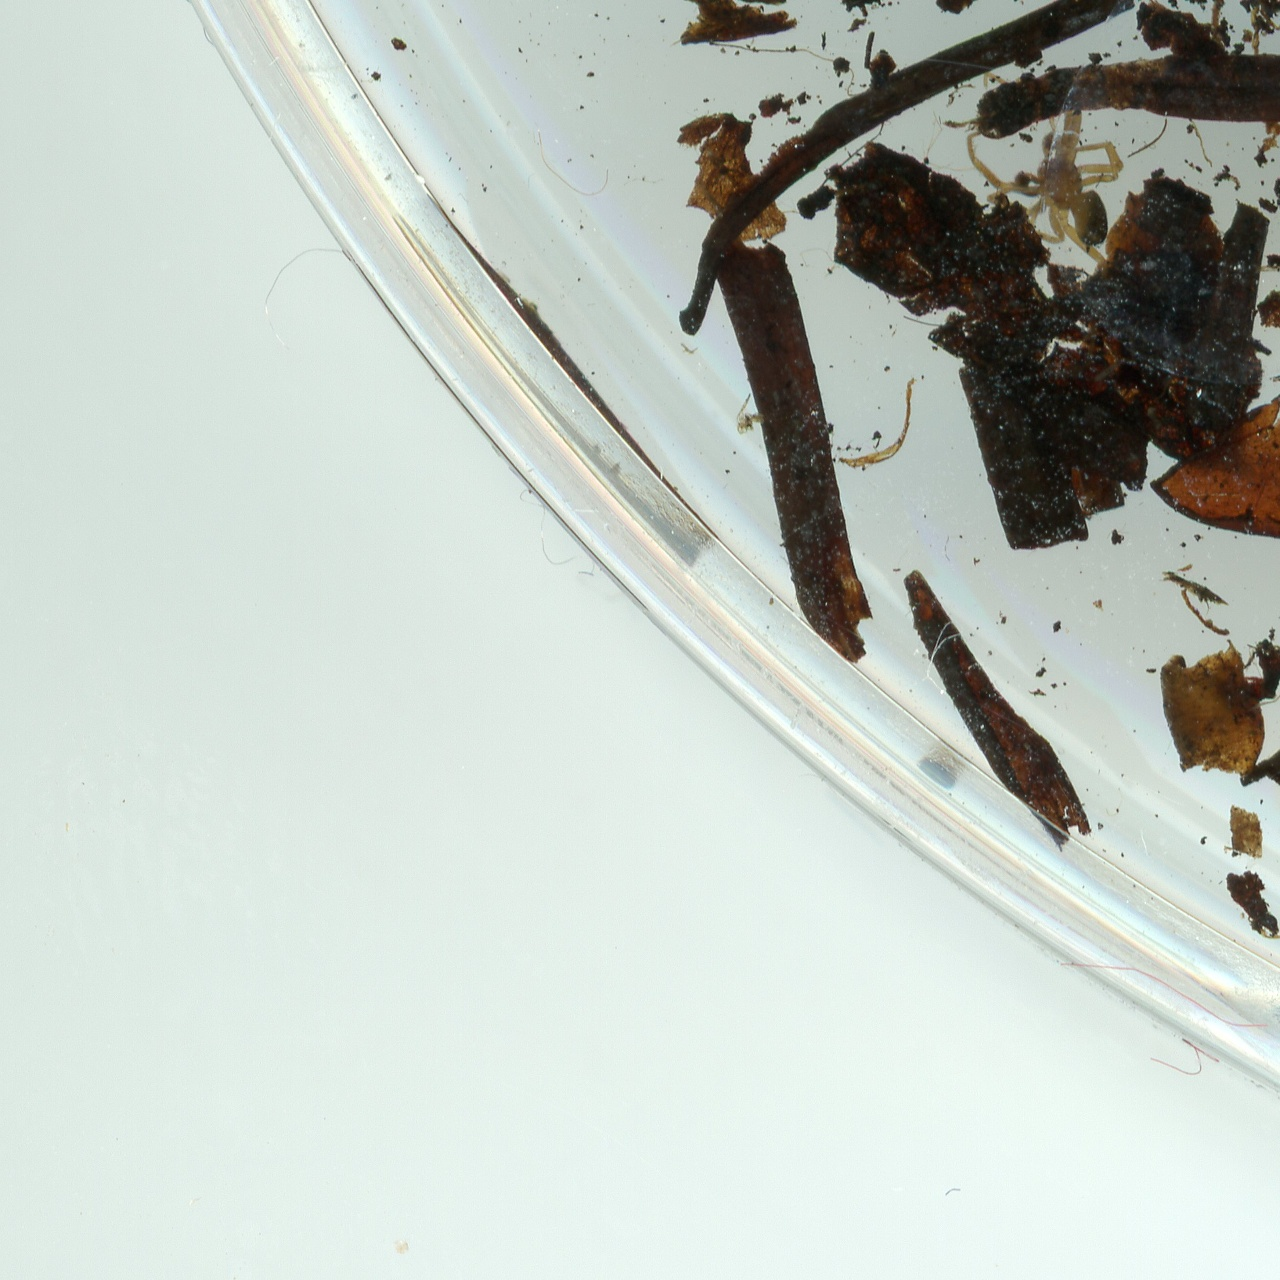arthropod: (969, 135, 1133, 267)
